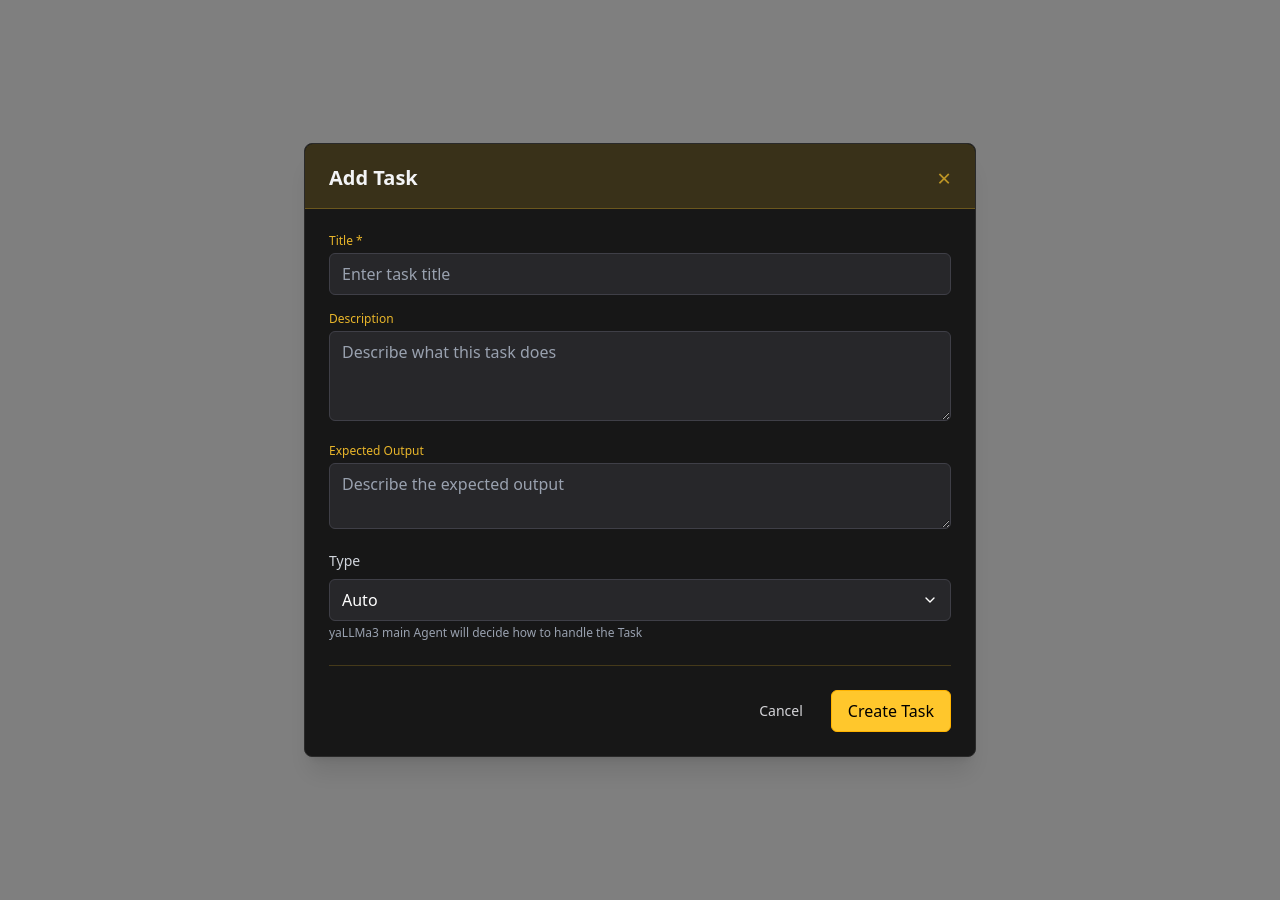
Test: TaskModal Component › Type Selection and Executor Fields › should show workflow selector when type is workflow
Click the dropdown "Auto" at (640, 600), box [329,579,951,621]
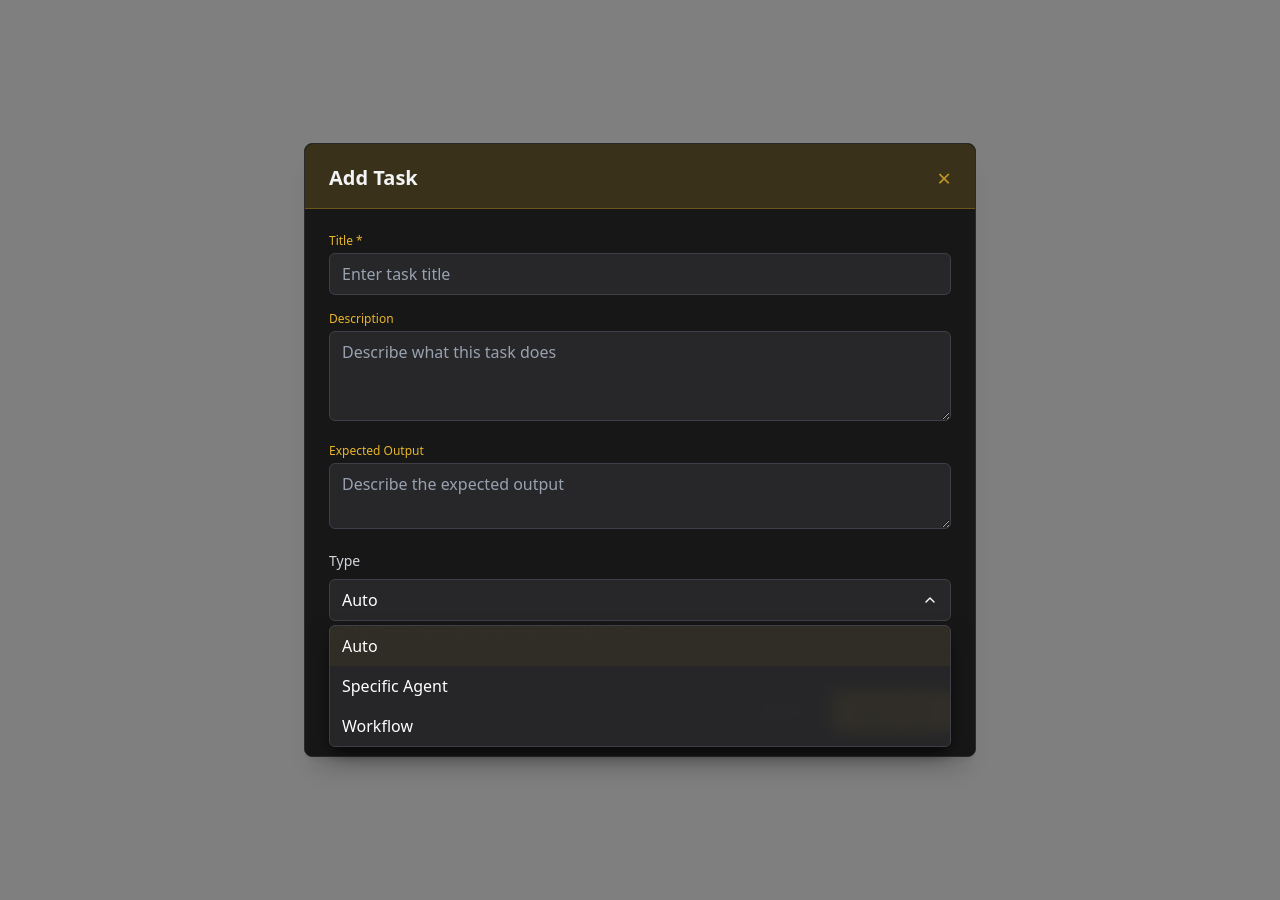
Click the option "Workflow" at (378, 726), box [342,715,413,737]
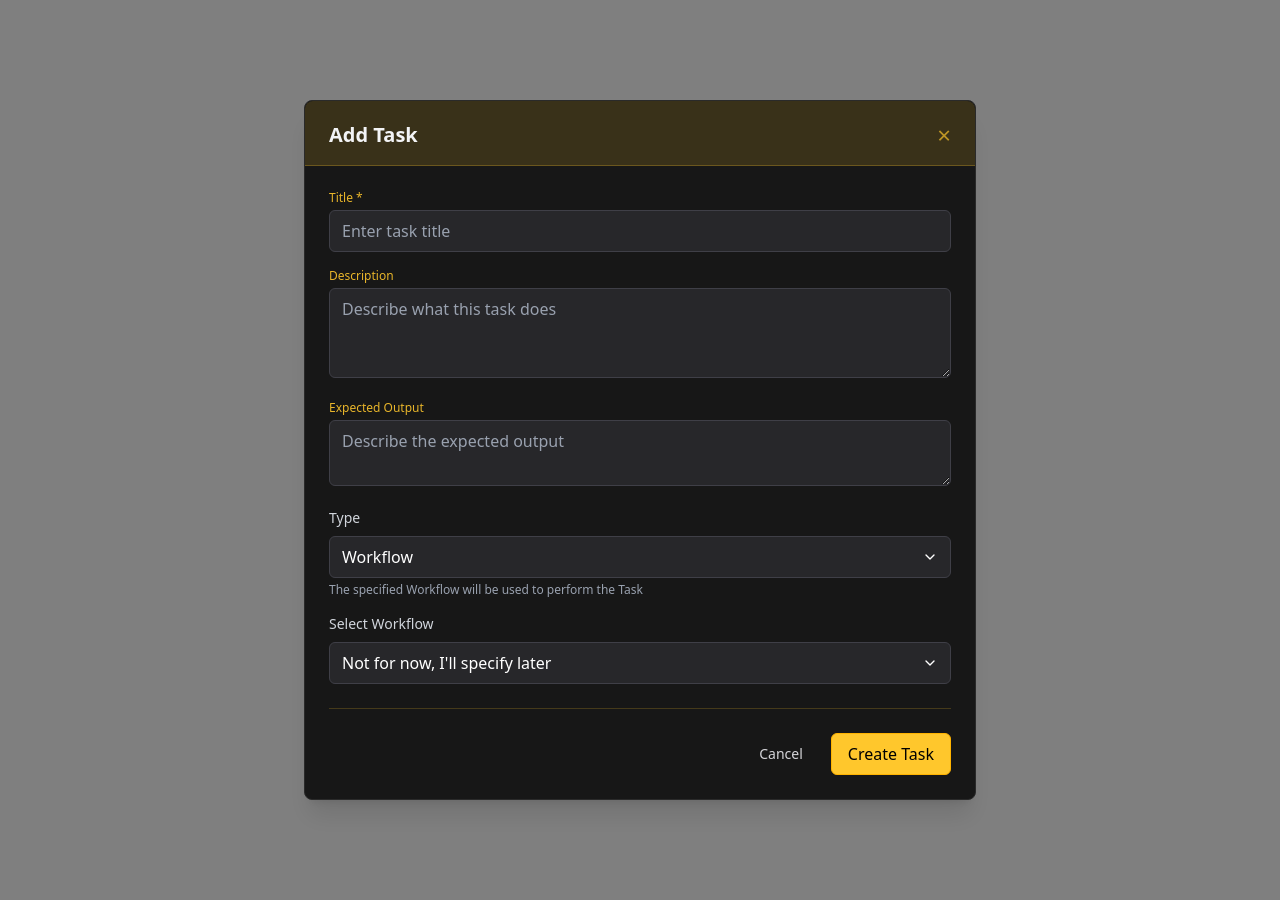
Result: the text "Select Workflow" is shown at [329,614,434,633]
